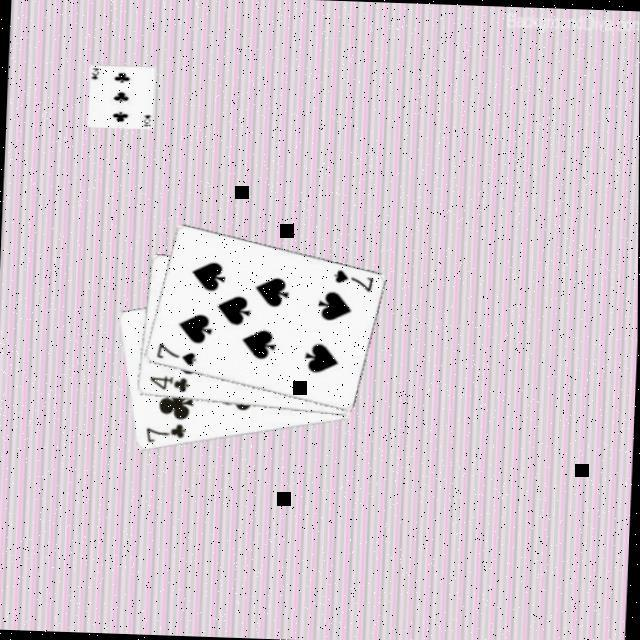4C: (145, 371, 190, 394)
7C: (141, 418, 188, 446)
7S: (151, 339, 198, 367), (329, 265, 376, 293)
